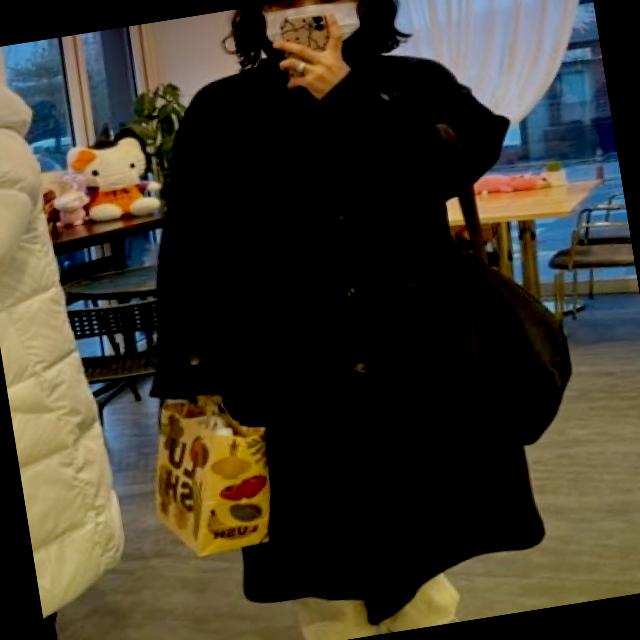coat: (103, 26, 586, 640)
